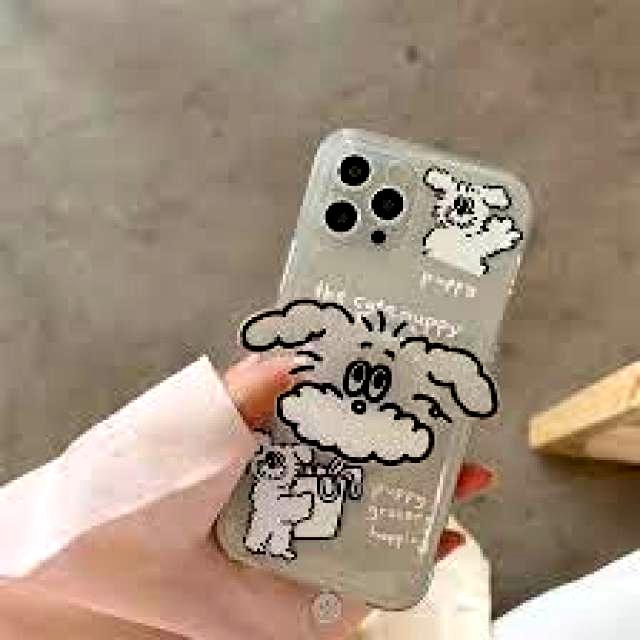lens_back: (321, 197, 361, 245), (368, 182, 408, 222), (334, 153, 374, 189)
phone: (223, 127, 508, 609)
